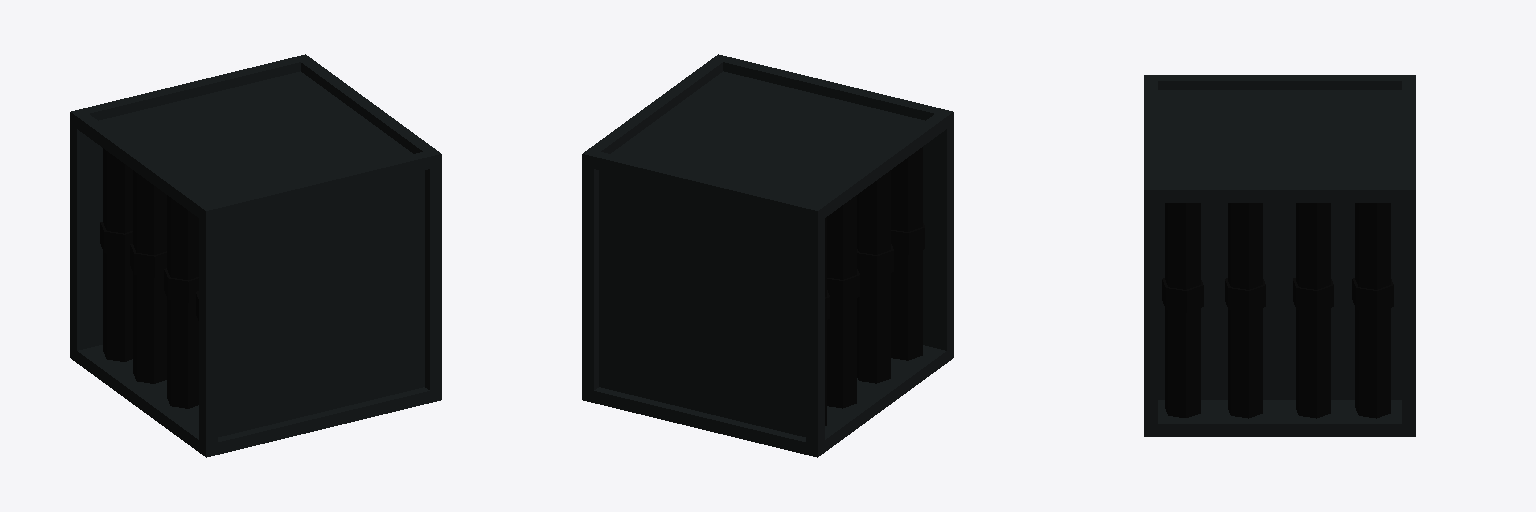
File: crate_w_pipe.obj
The picture shows the model from 3 angles: view 1: azimuth 30°, elevation 25°; view 2: azimuth 150°, elevation 25°; view 3: azimuth 270°, elevation 25°; orthographic projection.
Parts seen in each view (by area): view 1: crate_with_pipe; view 2: crate_with_pipe; view 3: crate_with_pipe.
Boxes of the visible parts, <box> form: crate_with_pipe: <box>70,54,441,457</box>; crate_with_pipe: <box>582,54,953,457</box>; crate_with_pipe: <box>1144,75,1415,436</box>.
Size of the model in its own units: 2 by 2 by 2.